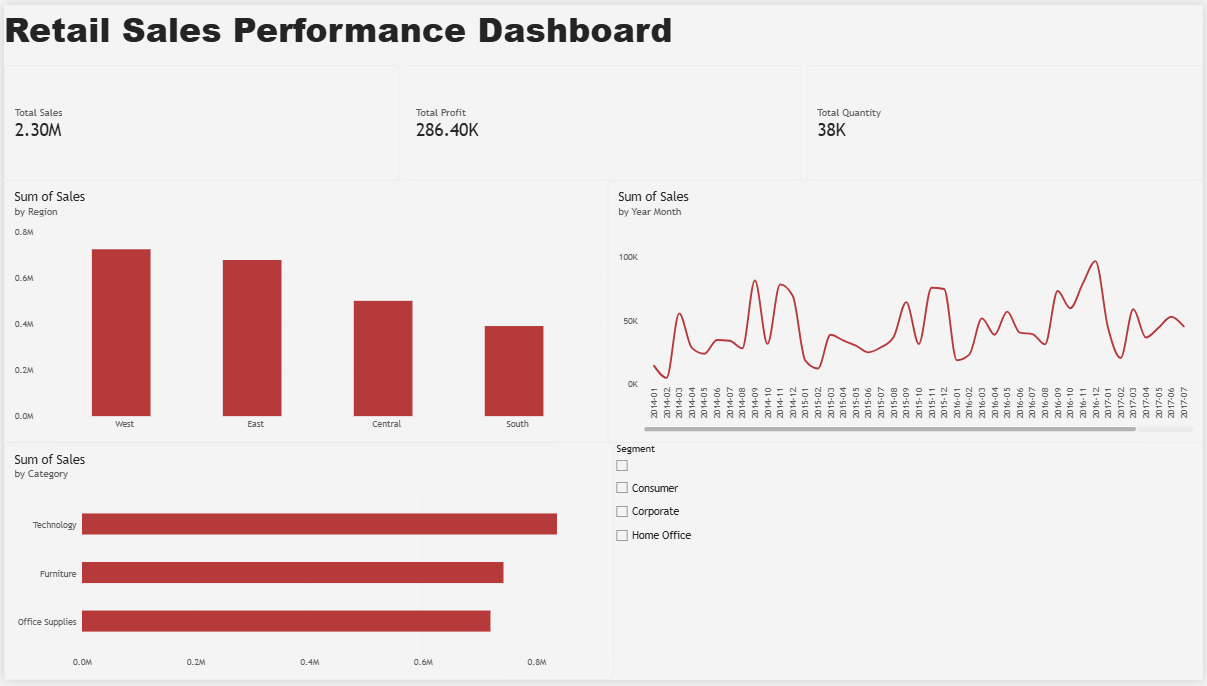

The dashboard page shown, as its layout file describes it:
{"tool":"powerbi","page":{"name":"Page 1","canvas":[1920,1080],"ordinal":0},"visuals":[{"type":"cardVisual","fields":{"Data":["retail_sales.Total Sales","retail_sales.Total Profit","retail_sales.Total Quantity"]},"box":[0,95,1920,185],"z":0},{"type":"clusteredBarChart","fields":{"Category":["retail_sales.Category"],"Y":["Sum(retail_sales.Sales)"]},"box":[0,700,975,380],"z":1},{"type":"clusteredColumnChart","fields":{"Category":["retail_sales.Region"],"Y":["Sum(retail_sales.Sales)"]},"box":[0,280,975,420],"z":2},{"type":"lineChart","fields":{"Category":["retail_sales.Year Month"],"Y":["Sum(retail_sales.Sales)"]},"box":[965,280,955,420],"z":3},{"type":"slicer","fields":{"Values":["retail_sales.Segment"]},"box":[972.5,700,947.5,380],"z":4},{"type":"textbox","box":[100,210,322.5,45],"z":6},{"type":"textbox","box":[100,100,15,300],"z":7},{"type":"textbox","box":[0,0,1160,320],"z":8}]}

Visuals, with their boxes in screenshot pixels (x1, y1, x2, y2), scaled from the page's 1920x1080 canvas onto the 1207x686 screenshot:
cardVisual - retail_sales.Total Sales x retail_sales.Total Profit: x1=0 y1=60 x2=1206 y2=178
clusteredBarChart - retail_sales.Category x Sum(retail_sales.Sales): x1=0 y1=445 x2=613 y2=685
clusteredColumnChart - retail_sales.Region x Sum(retail_sales.Sales): x1=0 y1=178 x2=613 y2=445
lineChart - retail_sales.Year Month x Sum(retail_sales.Sales): x1=607 y1=178 x2=1206 y2=445
slicer - retail_sales.Segment: x1=611 y1=445 x2=1206 y2=685
textbox: x1=63 y1=133 x2=266 y2=162
textbox: x1=63 y1=64 x2=72 y2=254
textbox: x1=0 y1=0 x2=729 y2=203
